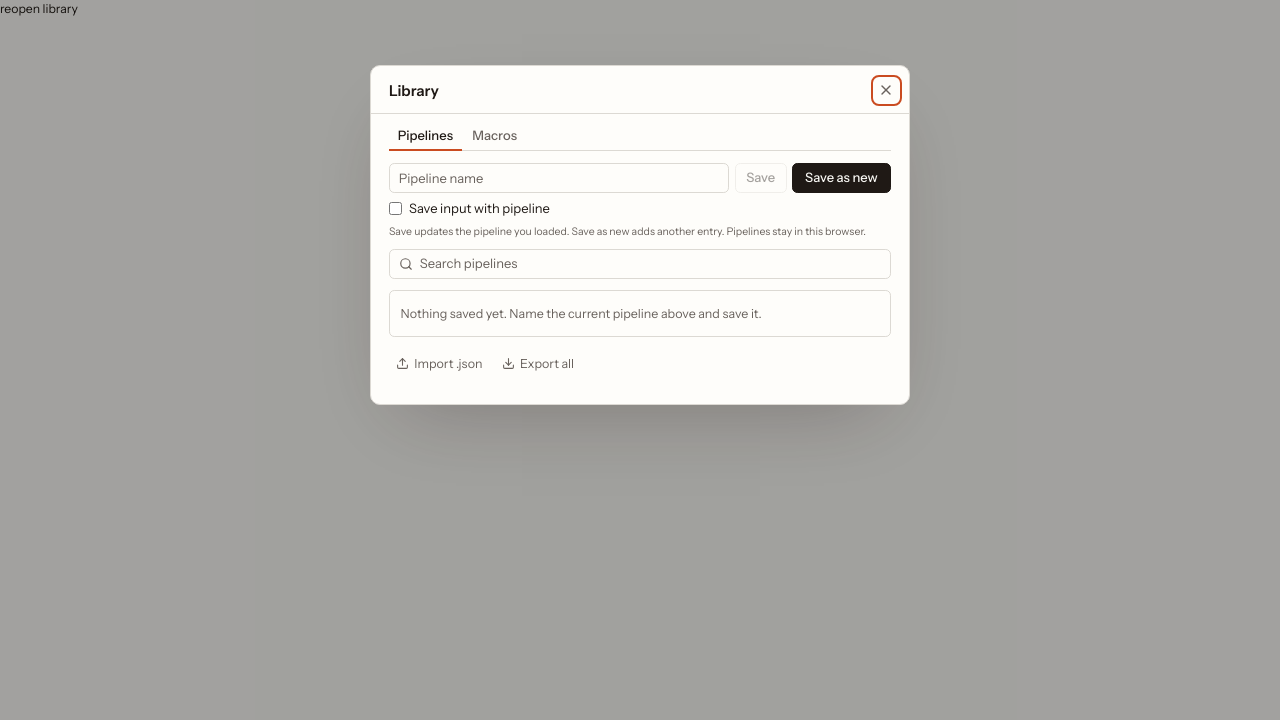
Test: LibraryDialog › shows a readable error instead of throwing when storage is full
Click the button "Save as new" at (841, 178), box [792,163,891,193]
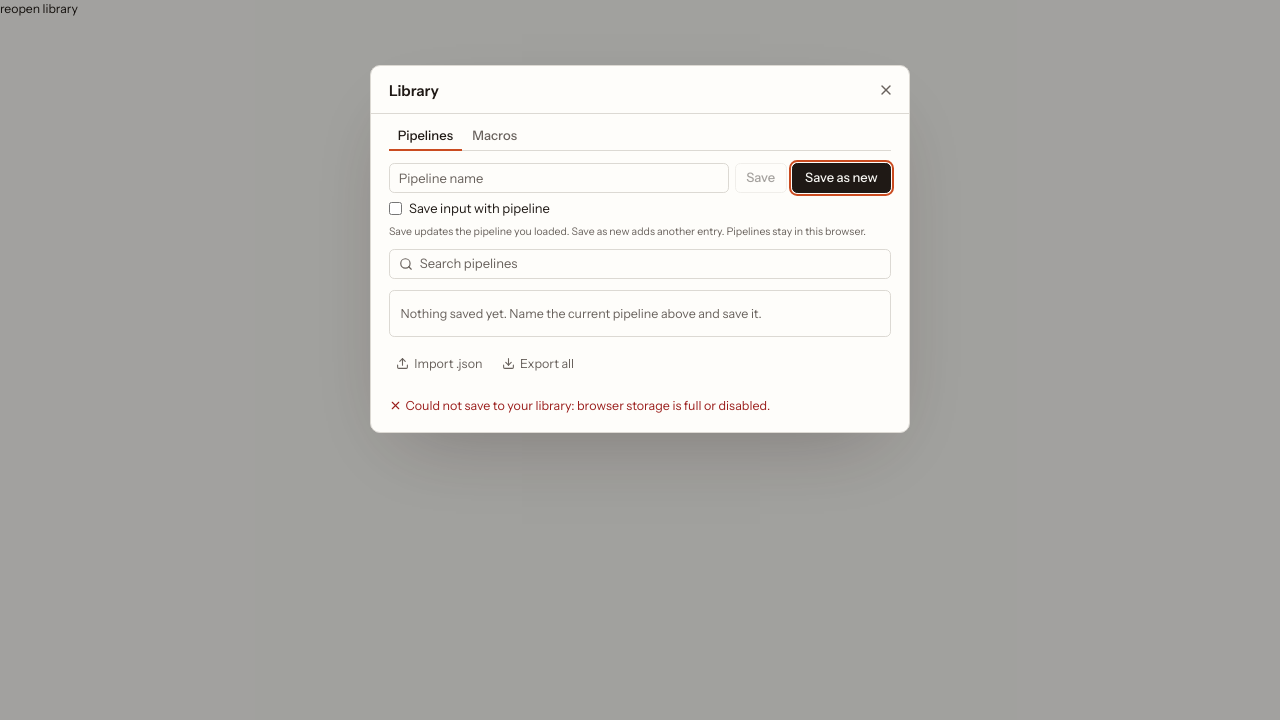
Expected: the message shows "storage is full or disabled", [406,398,770,412]
